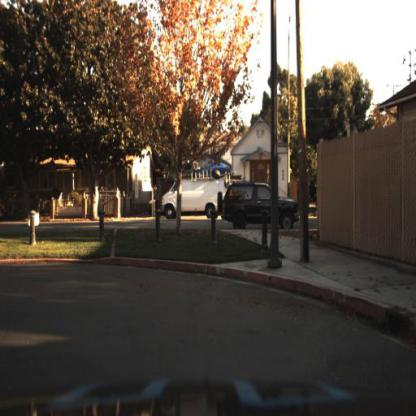car: (158, 166, 225, 226), (220, 186, 303, 230)
truck: (160, 172, 231, 220)
